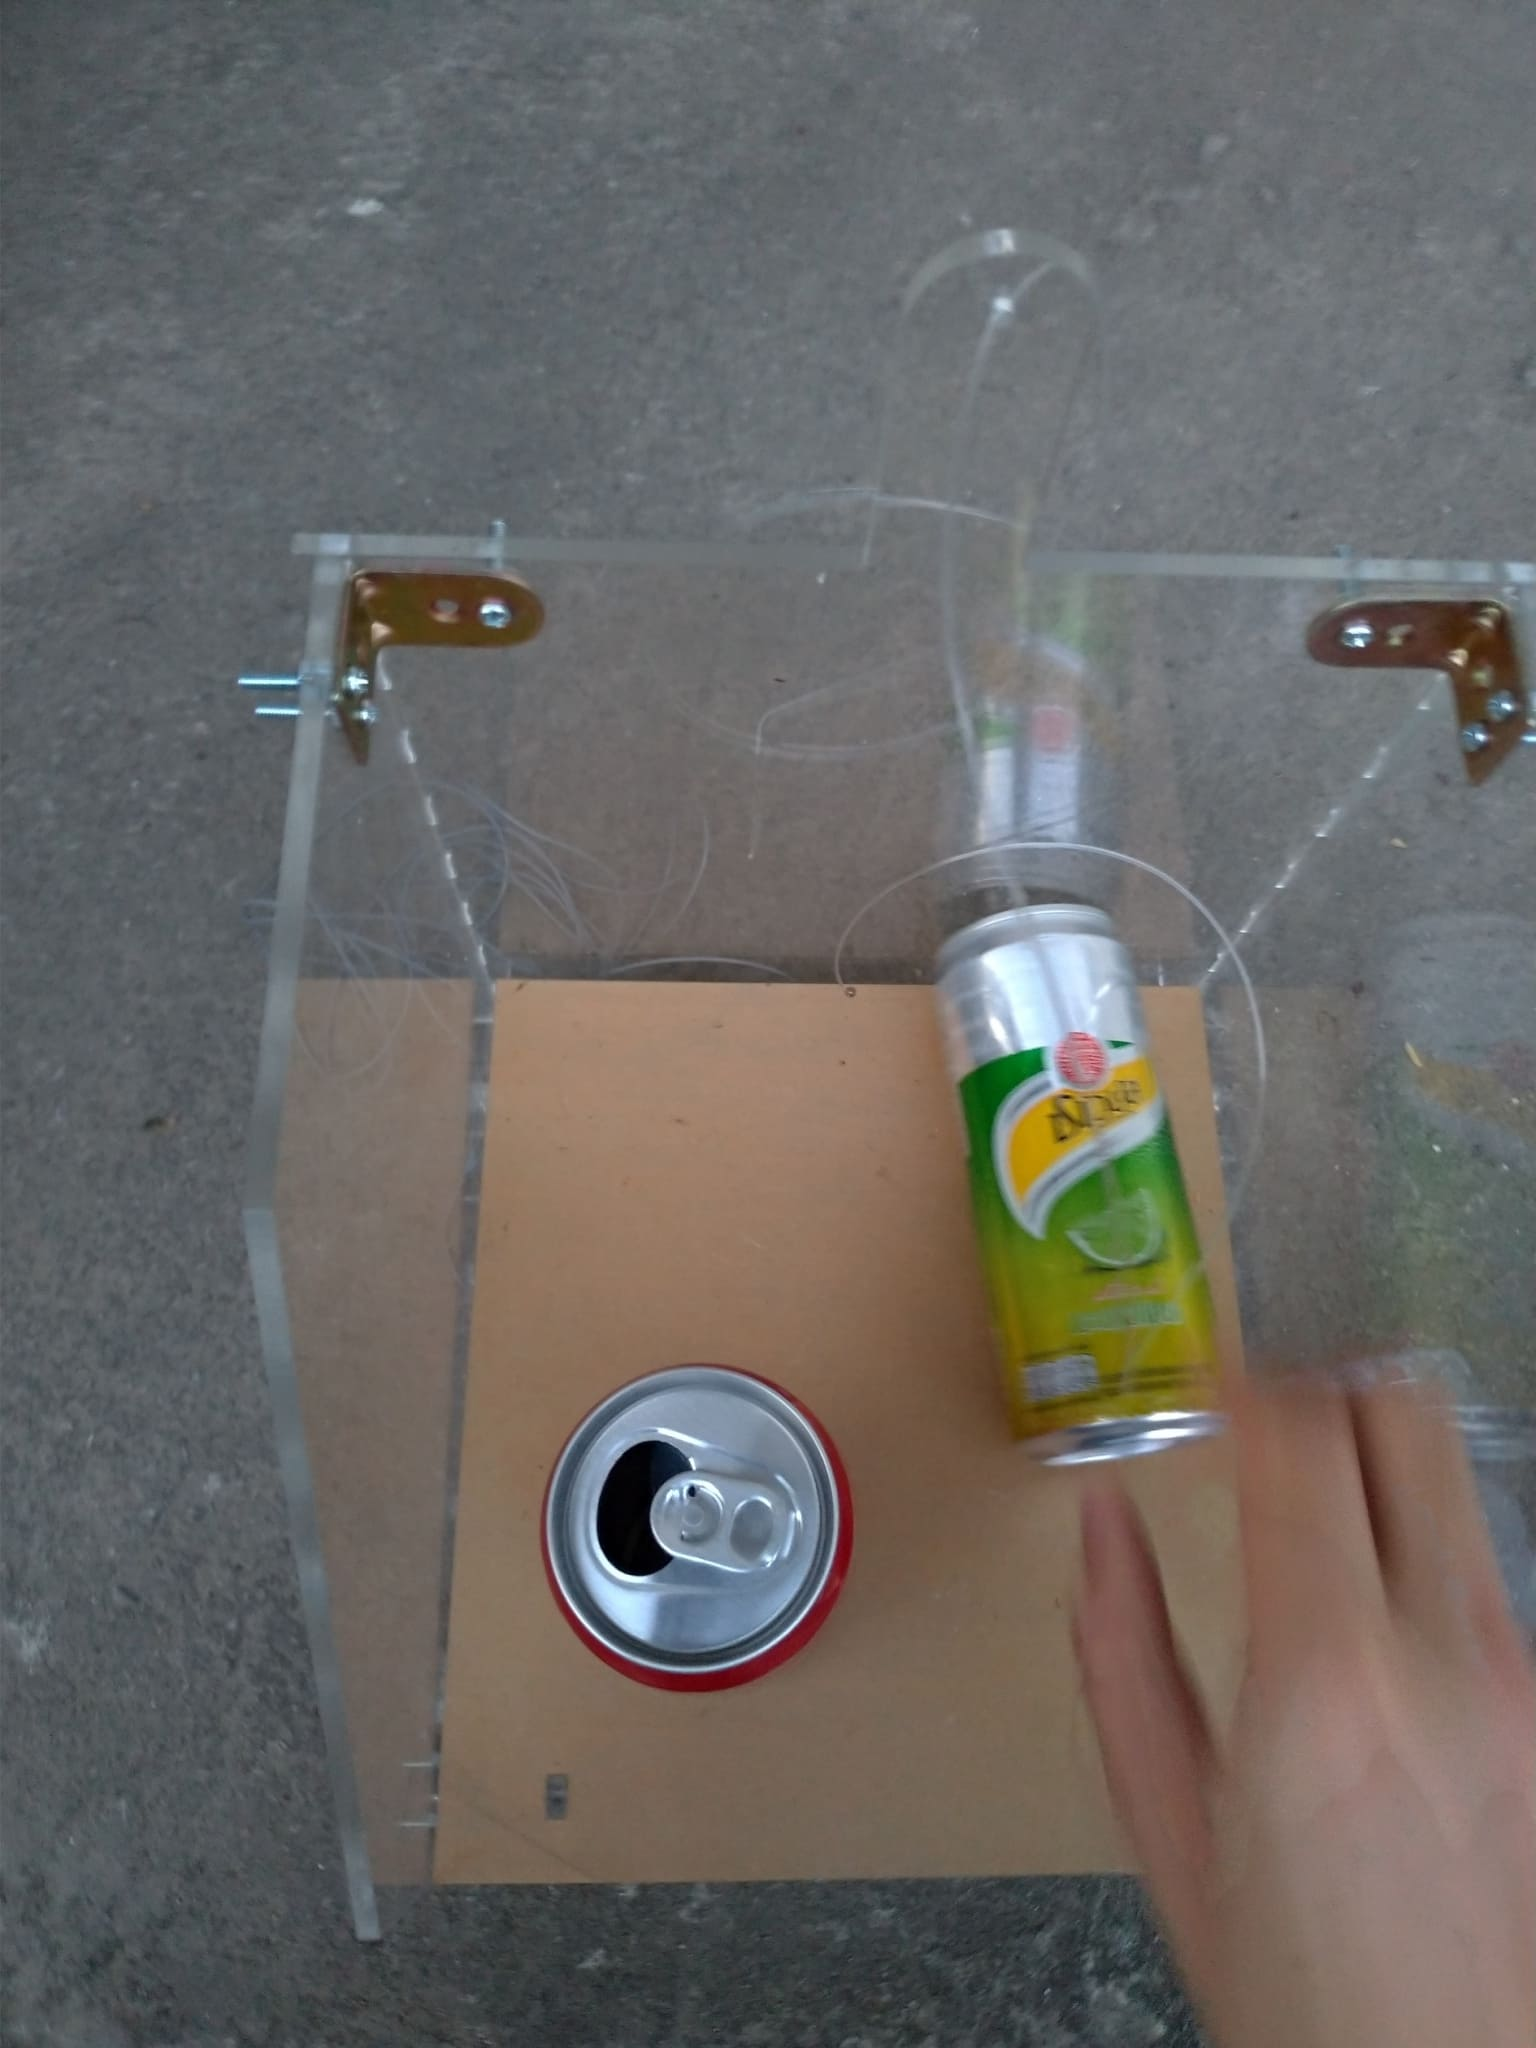AlCan: (933, 911, 1220, 1467), (537, 1364, 854, 1698)
